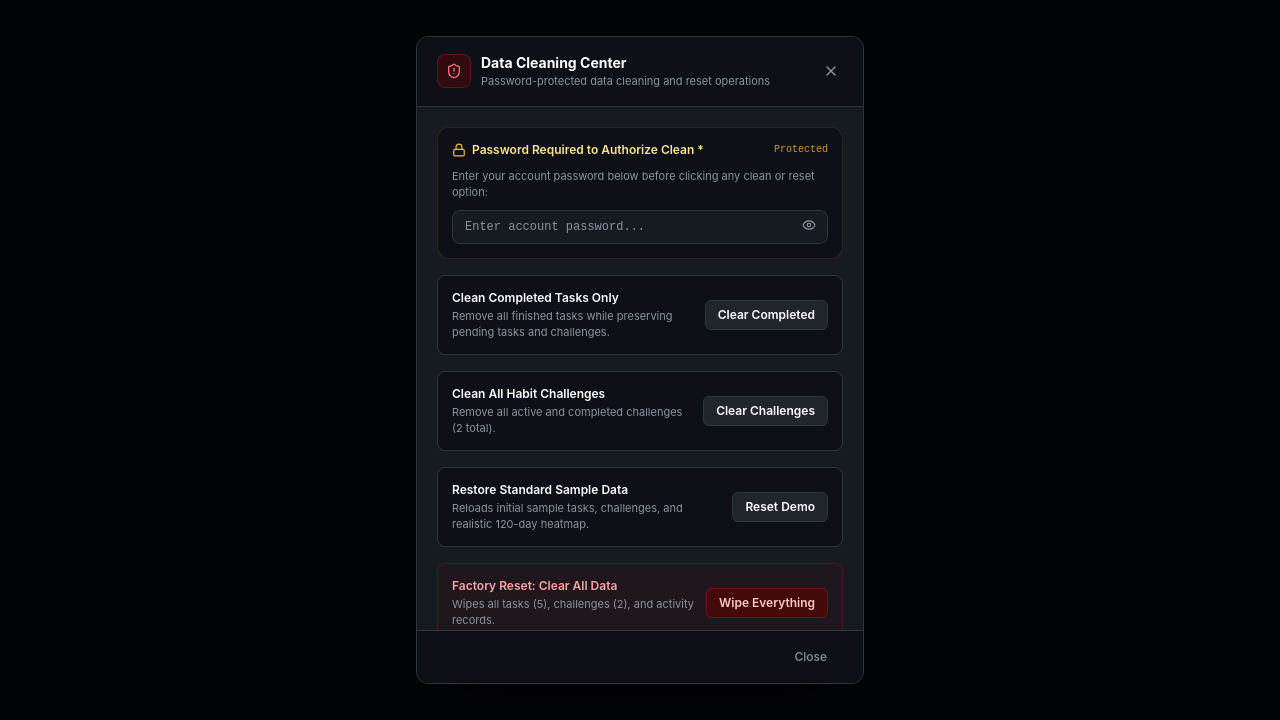
Test: DataCleanModal Component › blocks cleaning action and shows error when password is empty or wrong
The image size is (1280, 720).
# Click without entering password
Step 1. Click the button "Clear Completed" → (766, 314), box [705,300,828,330]
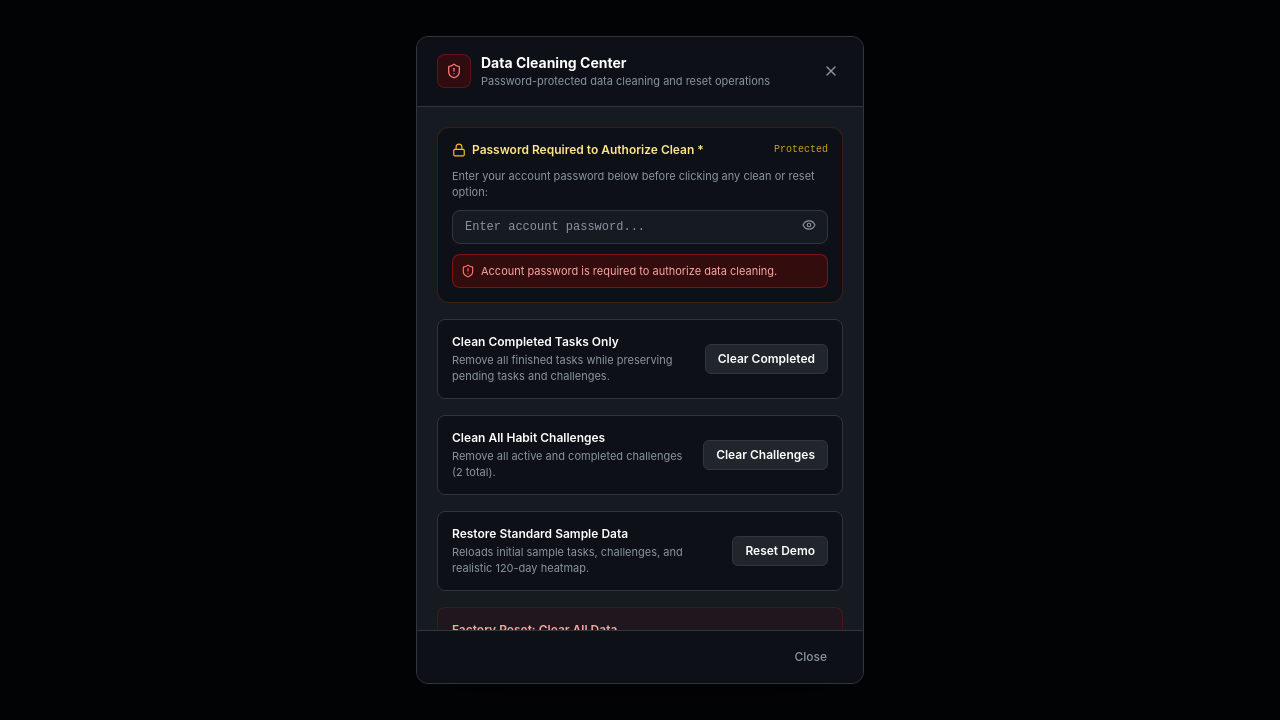
Result: the text "Account password is required to authorize data cleaning." is shown at [481,262,777,278]
# Enter wrong password
Step 2. Type "WrongPassword" into the password field with placeholder "Enter account password..." → (640, 226), box [452,210,828,244]
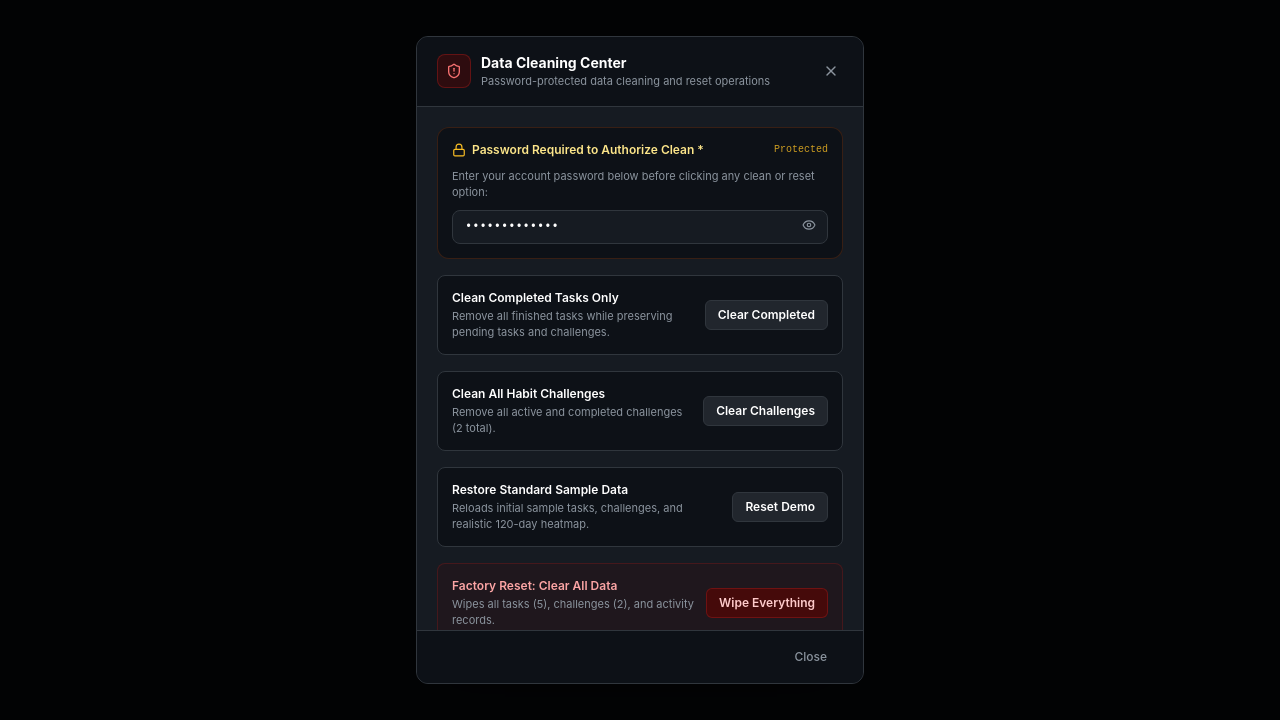
Step 3. Click the button "Clear Completed" → (766, 314), box [705,300,828,330]
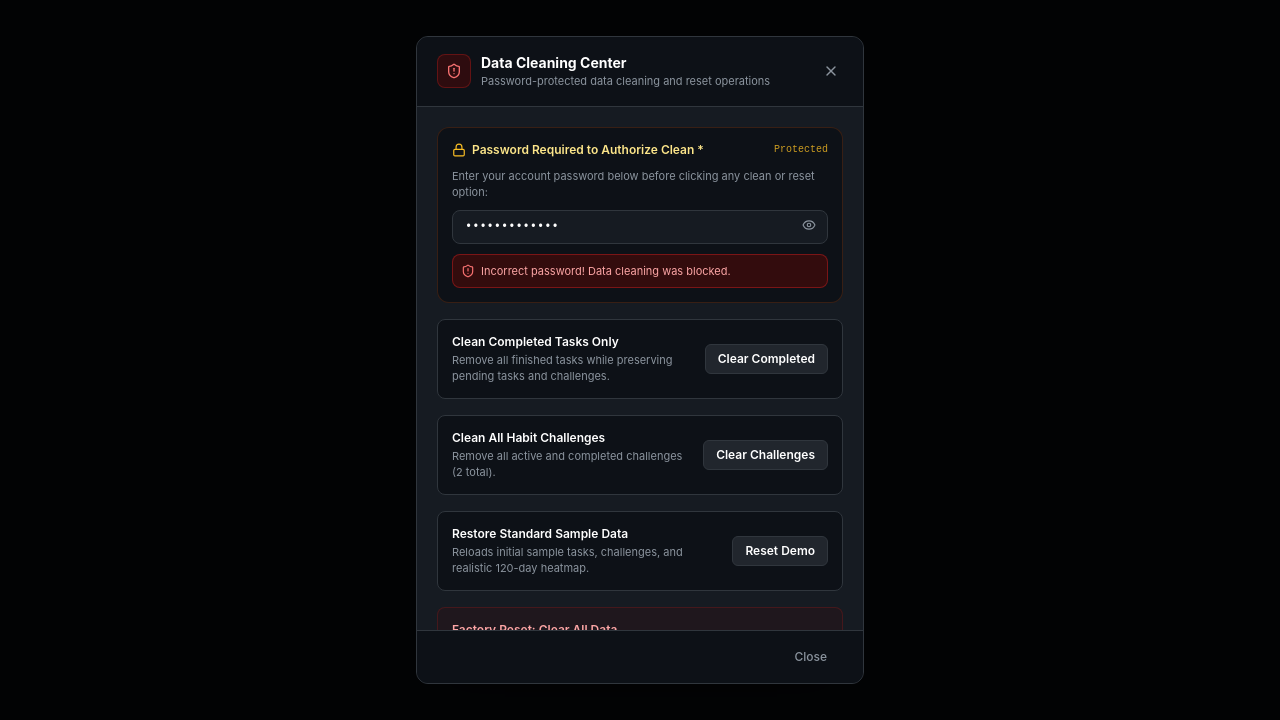
Result: the text "Incorrect password! Data cleaning was blocked." is shown at [481,262,731,278]
